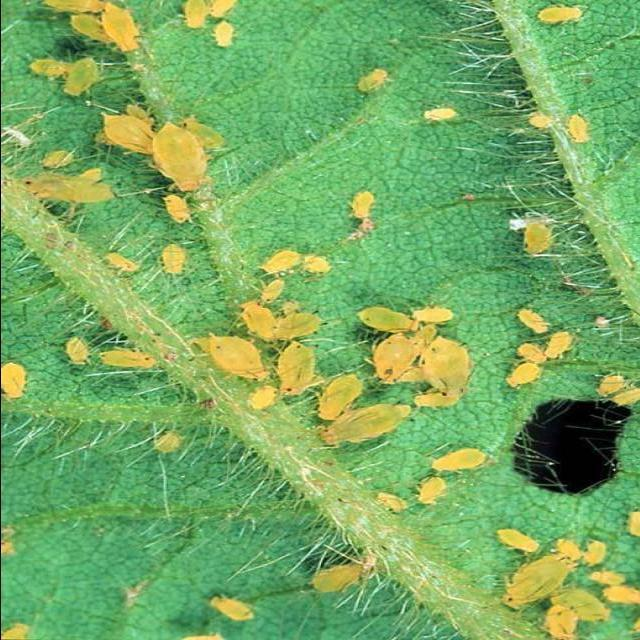aphid: (303, 403, 420, 458), (267, 332, 335, 414), (291, 548, 386, 604), (500, 207, 573, 266), (308, 364, 376, 424), (501, 554, 573, 608), (152, 122, 208, 191), (200, 585, 275, 635), (19, 168, 115, 206), (418, 336, 470, 400), (204, 334, 267, 382), (420, 444, 496, 482), (148, 228, 200, 282), (154, 186, 213, 233), (558, 101, 606, 157), (100, 112, 157, 157), (140, 420, 196, 464), (372, 333, 421, 383), (345, 62, 402, 103), (340, 188, 396, 228), (494, 354, 552, 391), (550, 588, 608, 624), (300, 545, 360, 579), (100, 2, 140, 53), (416, 468, 458, 516), (358, 486, 409, 519), (271, 310, 323, 342), (355, 306, 416, 333), (346, 190, 378, 241), (509, 102, 554, 138), (62, 56, 99, 98), (241, 302, 280, 341), (70, 13, 112, 48), (180, 117, 224, 149), (354, 320, 401, 349), (544, 604, 581, 639), (100, 348, 158, 370), (495, 527, 541, 554), (410, 105, 468, 124), (258, 250, 302, 275), (0, 361, 27, 400), (543, 330, 575, 361), (410, 306, 455, 326), (516, 308, 550, 334), (555, 538, 587, 564), (536, 6, 582, 24), (600, 585, 639, 606), (28, 58, 68, 78), (248, 386, 278, 412), (104, 252, 139, 274), (183, 0, 210, 28), (65, 336, 90, 365), (40, 149, 76, 169), (581, 540, 607, 566), (260, 277, 285, 304), (516, 342, 548, 363), (597, 374, 626, 397), (590, 571, 625, 588), (303, 255, 332, 275), (213, 20, 234, 47), (611, 387, 640, 406), (1, 622, 30, 640), (626, 511, 640, 538), (1, 539, 14, 556)
